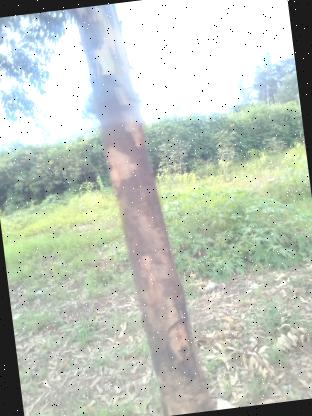tree: (61, 0, 216, 416)
